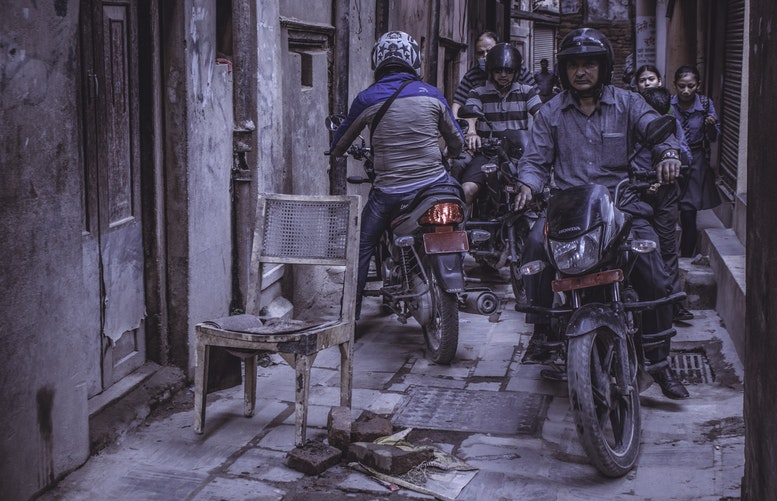helmet: (553, 31, 616, 87), (373, 29, 428, 79), (485, 47, 524, 71)
